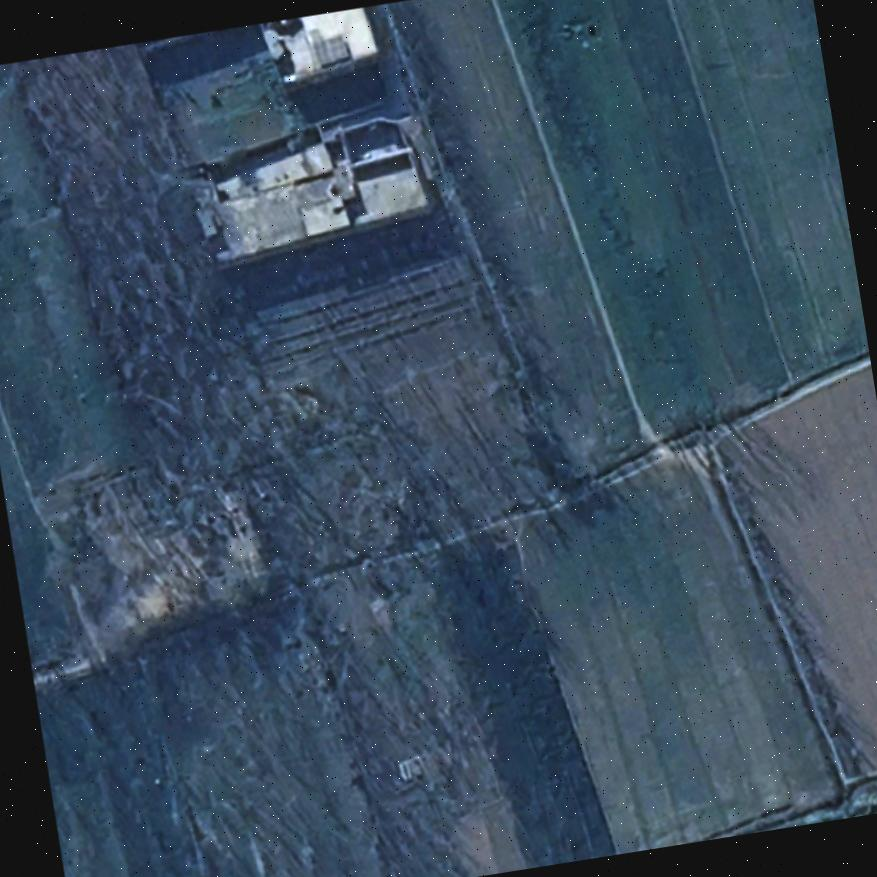Solarpanel: (307, 27, 352, 69)
